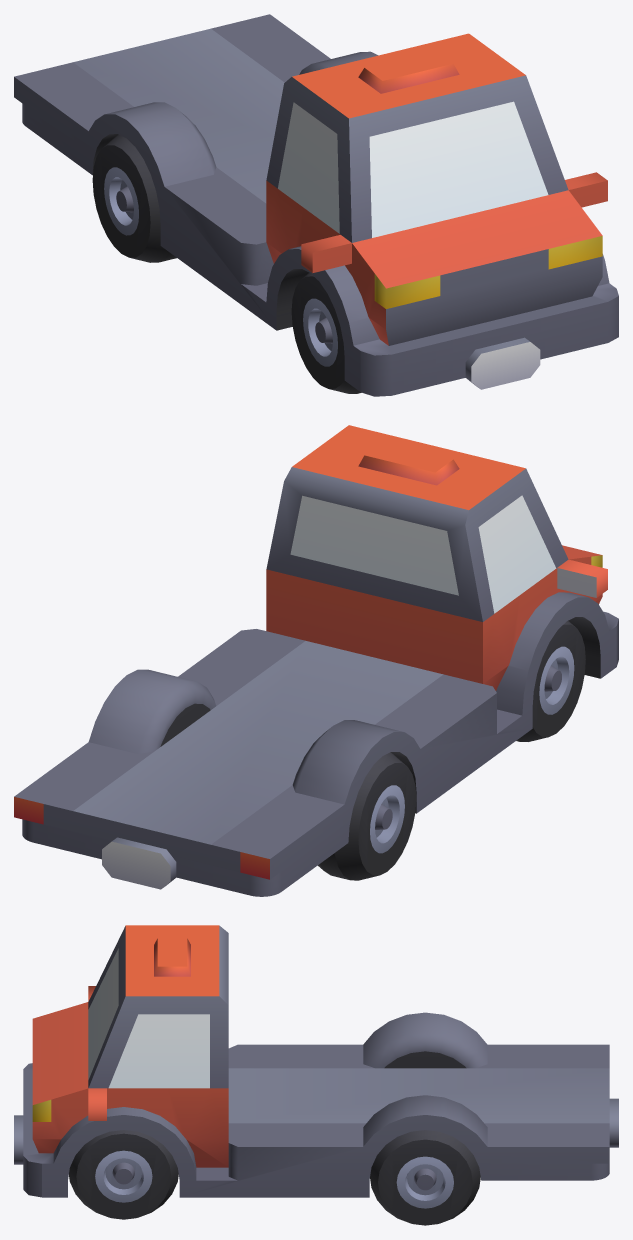
Rendered from delivery-flat.fbx.
The picture shows the model from 3 angles, top to bottom: view 1: azimuth 30°, elevation 25°; view 2: azimuth 150°, elevation 25°; view 3: azimuth 270°, elevation 25°; orthographic projection. The views are drawn at different scales.
Visible parts, largest first — view 1: body, wheel-back-right, wheel-front-right; view 2: body, wheel-back-right, wheel-front-right; view 3: body, wheel-back-left, wheel-front-left.
Boxes of the visible parts, x1,y1,x2,y2 form: body: [14, 14, 618, 396]; wheel-back-right: [92, 134, 176, 262]; wheel-front-right: [291, 272, 361, 393]; body: [14, 425, 618, 896]; wheel-back-right: [318, 752, 416, 880]; wheel-front-right: [516, 621, 585, 741]; body: [14, 925, 618, 1197]; wheel-back-left: [370, 1130, 480, 1225]; wheel-front-left: [69, 1130, 178, 1219].
Bounding box in the file's own units: 150 × 135 × 325.
1 material, 1 textured.
